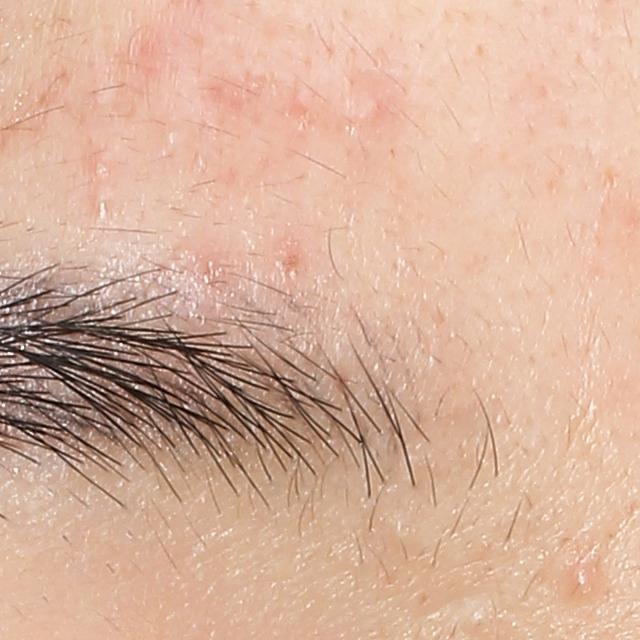comedo: (88, 154, 118, 184), (464, 609, 490, 633)
papule: (341, 72, 405, 143), (568, 563, 595, 596)
